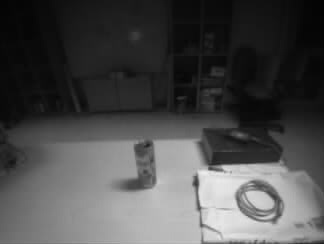Tin can: (136, 140, 156, 187)
